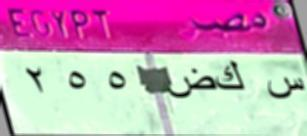2: (25, 64, 55, 95)
5: (63, 66, 92, 98), (104, 68, 130, 96)
daad: (166, 62, 215, 100)
kaaf: (215, 58, 247, 99)
seen: (265, 72, 307, 104)
